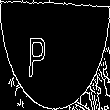P_N: (45, 29, 65, 81)
